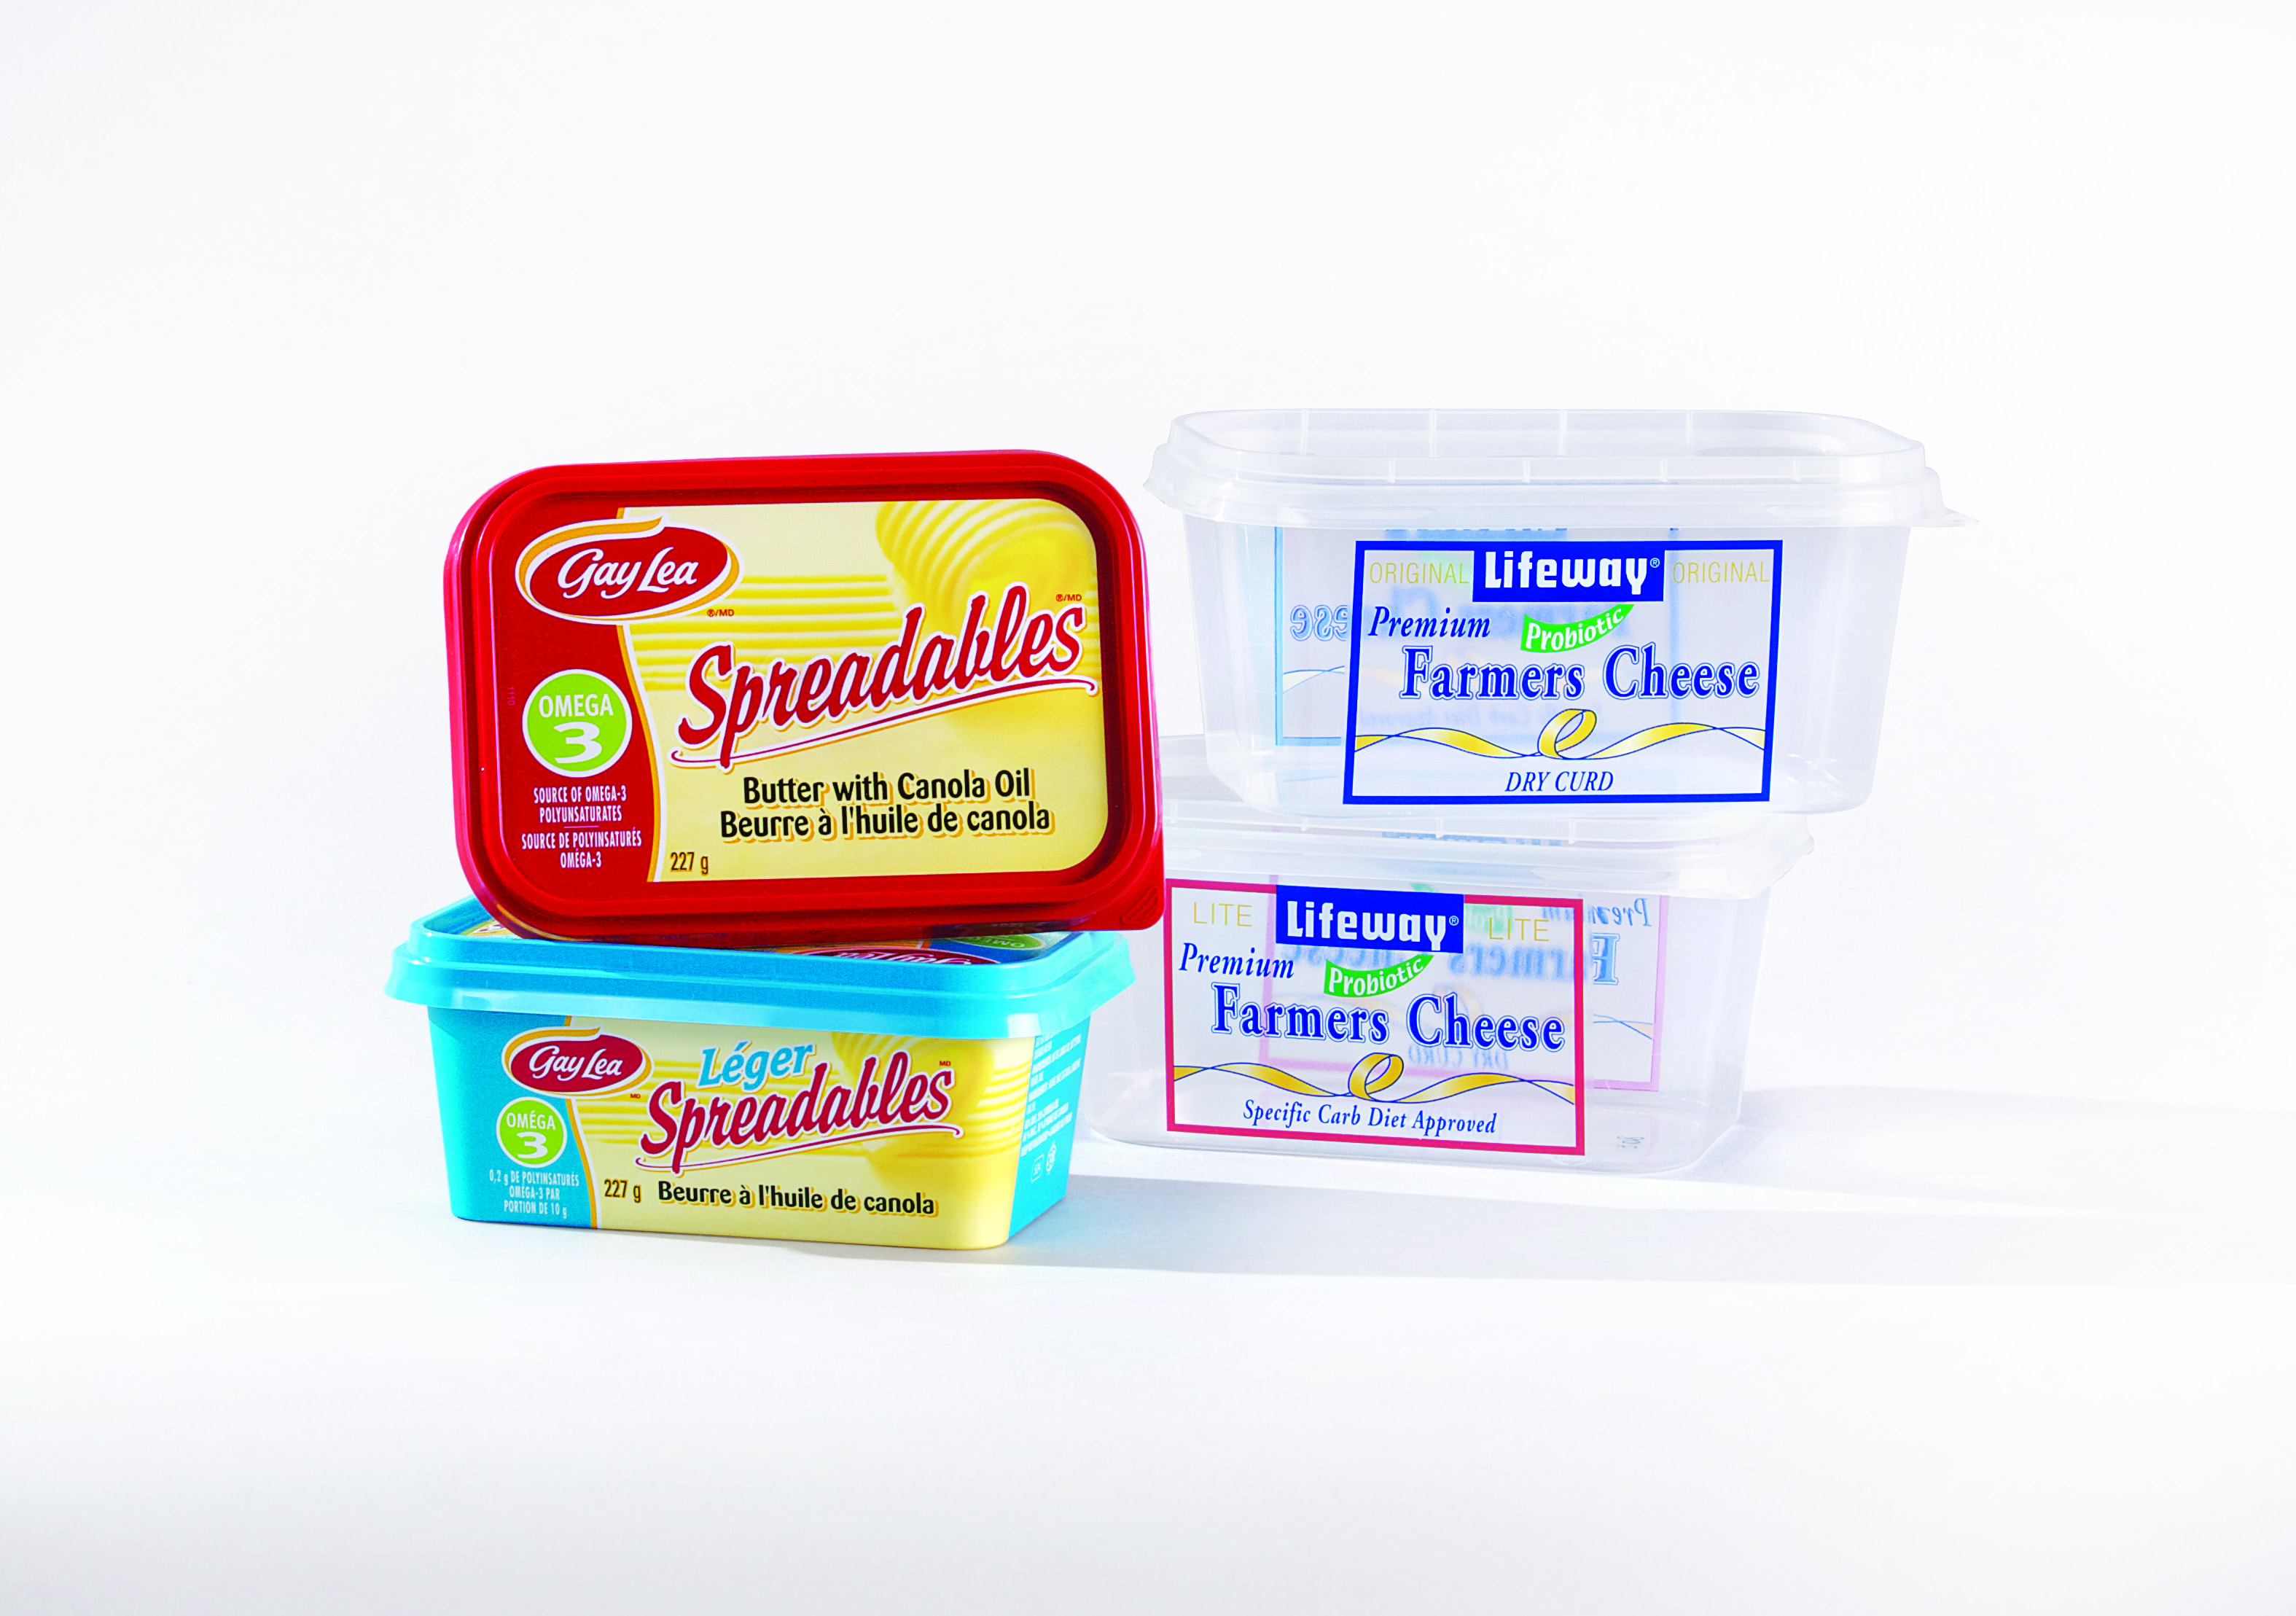PlasticBox: (1140, 394, 1964, 845)
